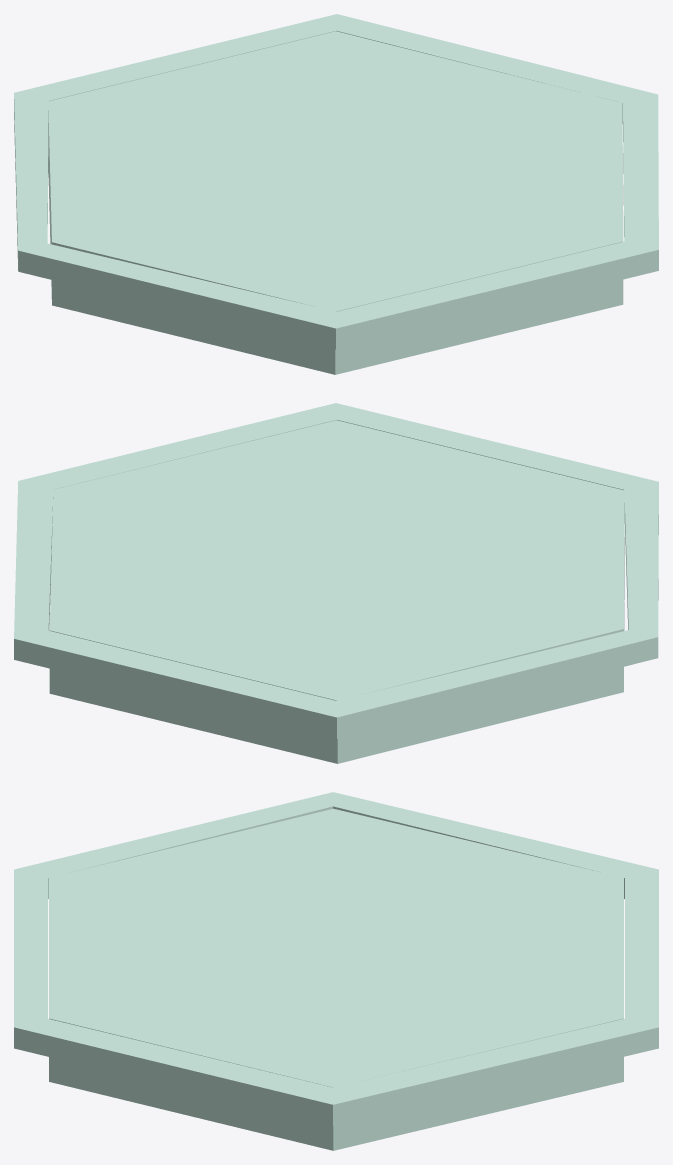
3 renders of one model, top to bottom at view 1: azimuth 30°, elevation 25°; view 2: azimuth 150°, elevation 25°; view 3: azimuth 270°, elevation 25°, orthographic.
Visible parts, largest first — view 1: Renderer Node; view 2: Renderer Node; view 3: Renderer Node.
Boxes of the visible parts, box(x1,y1,x2,y2) form: Renderer Node: box(14, 14, 658, 374); Renderer Node: box(14, 403, 658, 763); Renderer Node: box(14, 792, 658, 1150).
Size of the model in its own units: 1.49 by 0.1406 by 1.3.
